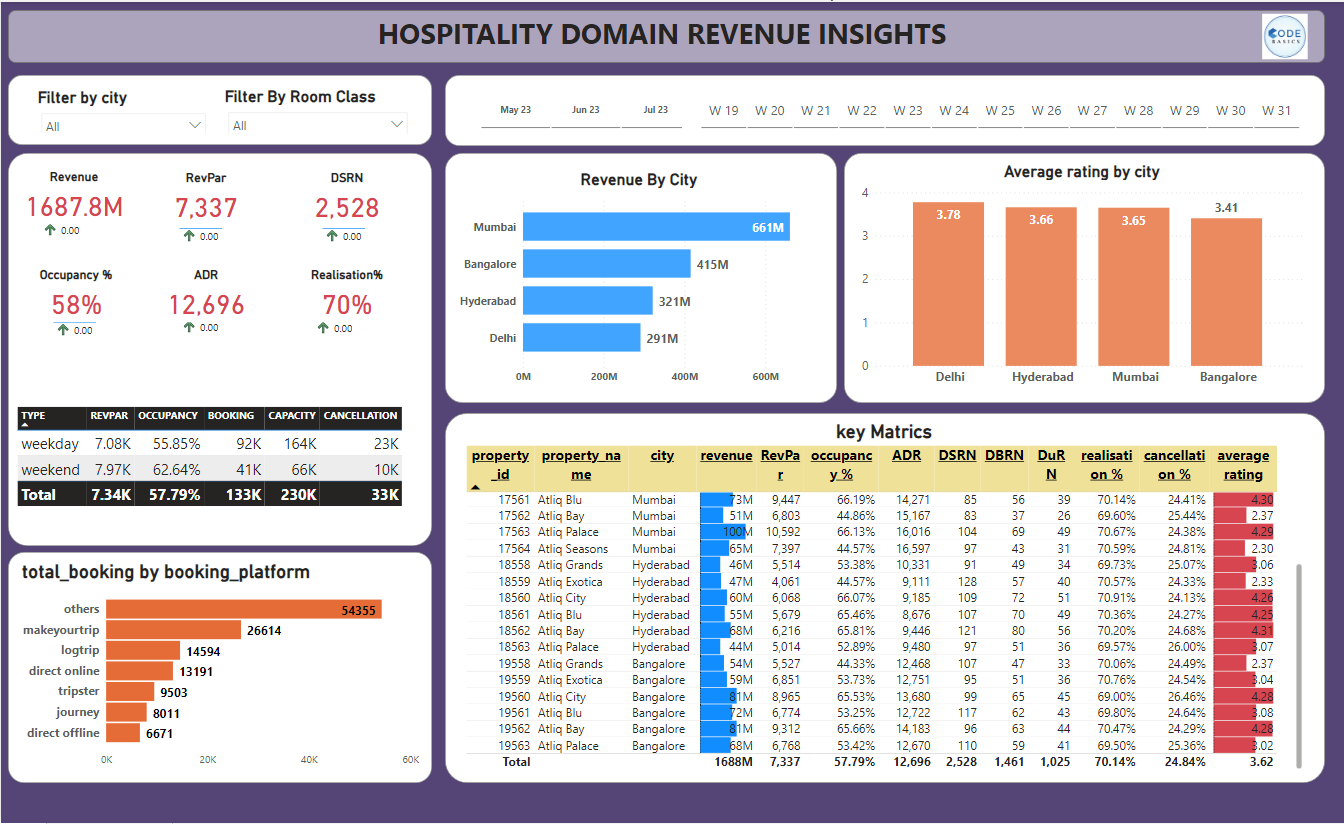

Layout of this report page (visuals, bound fields, positions):
{"tool":"powerbi","page":{"name":"Page 1","canvas":[1800,1100],"ordinal":0},"visuals":[{"type":"shape","box":[594.9,550.7,1179,495.7],"z":0},{"type":"shape","box":[1129.5,202.3,644.5,335],"z":1000},{"type":"shape","box":[594.9,202.3,525.2,335],"z":2000},{"type":"shape","box":[9.4,736.9,568.1,309.5],"z":3000},{"type":"shape","box":[594.9,97.4,1179,95.1],"z":4000},{"type":"shape","box":[9.4,202.3,568.1,526.6],"z":5000},{"type":"shape","box":[9.4,97.8,568.1,93.8],"z":6000},{"type":"tableEx","fields":{"Values":["key_measure table.Revpar WoW change %"]},"box":[47.4,262.5,100.1,69],"z":7000},{"type":"tableEx","title":" key Matrics","fields":{"Values":["dim_hotel.property_id","dim_hotel.property_name","dim_hotel.city","key_measure table.revenue","key_measure table.revenue per available room","key_measure table.occupancy %","key_measure table.ADR","key_measure table.DSRN","key_measure table.DBRN","key_measure table.DuRN","key_measure table.realisation %","key_measure table.cancellation %"]},"box":[617.7,560,1130.8,473],"z":8000},{"type":"slicer","title":"Filter by  city","fields":{"Values":["dim_hotel.city"]},"box":[44.2,115.2,239.8,60.3],"z":9000},{"type":"slicer","title":"Filter By Room Class","fields":{"Values":["dim_rooms.room_class"]},"box":[294.8,113.9,259.9,63],"z":10000},{"type":"card","title":"Revenue","fields":{"Values":["key_measure table.revenue"]},"box":[22.8,223.8,150.1,73.7],"z":11000},{"type":"slicer","fields":{"Values":["dim_date.mmm yy"]},"box":[617.7,114.1,329.6,61.6],"z":12000},{"type":"barChart","title":" Revenue By City","fields":{"Category":["dim_hotel.city"],"Y":["key_measure table.revenue"]},"box":[608.3,225.1,493.1,294.8],"z":13000},{"type":"barChart","fields":{"Category":["fact_bookings.booking_platform"],"Y":["key_measure table.total_booking"]},"box":[22.8,747.6,542.6,285.4],"z":15000},{"type":"slicer","fields":{"Values":["dim_date.week no"]},"box":[912.4,114.1,850.8,61.6],"z":16000},{"type":"tableEx","fields":{"Values":["key_measure table.Revpar WoW change %"]},"box":[233.1,270.6,100.5,79],"z":17000},{"type":"tableEx","fields":{"Values":["key_measure table.Revpar WoW change %"]},"box":[424.7,270.6,100.5,69.7],"z":18000},{"type":"tableEx","fields":{"Values":["key_measure table.Revpar WoW change %"]},"box":[233.1,392.6,100.5,69.7],"z":19000},{"type":"card","title":"ADR","fields":{"Values":["key_measure table.ADR"]},"box":[197,355.1,155.4,73.7],"z":20000},{"type":"tableEx","fields":{"Values":["key_measure table.Revpar WoW change %"]},"box":[64.3,396.6,100.5,69.7],"z":21000},{"type":"card","title":"Occupancy %","fields":{"Values":["key_measure table.occupancy %"]},"box":[22.8,355.1,155.4,73.7],"z":22000},{"type":"card","title":"RevPar","fields":{"Values":["key_measure table.revenue per available room"]},"box":[197,225.1,155.4,73.7],"z":23000},{"type":"card","title":"DSRN","fields":{"Values":["key_measure table.DSRN"]},"box":[385.9,225.1,155.4,73.7],"z":24000},{"type":"tableEx","fields":{"Values":["key_measure table.Revpar WoW change %"]},"box":[412.7,393.9,100.5,69.7],"z":25000},{"type":"card","title":"Realisation%","fields":{"Values":["key_measure table.realisation %"]},"box":[385.9,355.1,155.4,73.7],"z":26000},{"type":"shape","box":[9.4,10.7,1764.6,71],"z":27000},{"type":"textbox","box":[44.2,10.7,1682.8,71],"z":28000},{"type":"image","box":[1666.7,10.7,107.2,71],"z":29000},{"type":"columnChart","title":"Average rating by city","fields":{"Y":["key_measure table.average rating"],"Category":["dim_hotel.city"]},"box":[1148.2,214.4,600.2,308.2],"z":30000},{"type":"tableEx","fields":{"Values":["dim_date.day_type","key_measure table.revenue per available room","key_measure table.occupancy %","key_measure table.total_booking","key_measure table.total_capacity","key_measure table.total cancelled booking"]},"box":[16.1,537.3,549.3,175.5],"z":30001}]}

Visuals, with their boxes in screenshot pixels (x1, y1, x2, y2), scaled from the page's 1800x1100 canvas onto the 1344x824 screenshot:
shape: left=444, top=413, right=1325, bottom=784
shape: left=843, top=152, right=1325, bottom=402
shape: left=444, top=152, right=836, bottom=402
shape: left=7, top=552, right=431, bottom=784
shape: left=444, top=73, right=1325, bottom=144
shape: left=7, top=152, right=431, bottom=546
shape: left=7, top=73, right=431, bottom=144
tableEx - key_measure table.Revpar WoW change %: left=35, top=197, right=110, bottom=248
" key Matrics" tableEx: left=461, top=419, right=1306, bottom=774
"Filter by  city" slicer: left=33, top=86, right=212, bottom=131
"Filter By Room Class" slicer: left=220, top=85, right=414, bottom=133
"Revenue" card: left=17, top=168, right=129, bottom=223
slicer - dim_date.mmm yy: left=461, top=85, right=707, bottom=132
" Revenue By City" barChart: left=454, top=169, right=822, bottom=389
barChart - fact_bookings.booking_platform x key_measure table.total_booking: left=17, top=560, right=422, bottom=774
slicer - dim_date.week no: left=681, top=85, right=1317, bottom=132
tableEx - key_measure table.Revpar WoW change %: left=174, top=203, right=249, bottom=262
tableEx - key_measure table.Revpar WoW change %: left=317, top=203, right=392, bottom=255
tableEx - key_measure table.Revpar WoW change %: left=174, top=294, right=249, bottom=346
"ADR" card: left=147, top=266, right=263, bottom=321
tableEx - key_measure table.Revpar WoW change %: left=48, top=297, right=123, bottom=349
"Occupancy %" card: left=17, top=266, right=133, bottom=321
"RevPar" card: left=147, top=169, right=263, bottom=224
"DSRN" card: left=288, top=169, right=404, bottom=224
tableEx - key_measure table.Revpar WoW change %: left=308, top=295, right=383, bottom=347
"Realisation%" card: left=288, top=266, right=404, bottom=321
shape: left=7, top=8, right=1325, bottom=61
textbox: left=33, top=8, right=1289, bottom=61
image: left=1244, top=8, right=1325, bottom=61
"Average rating by city" columnChart: left=857, top=161, right=1305, bottom=391
tableEx - dim_date.day_type x key_measure table.revenue per available room: left=12, top=402, right=422, bottom=534
